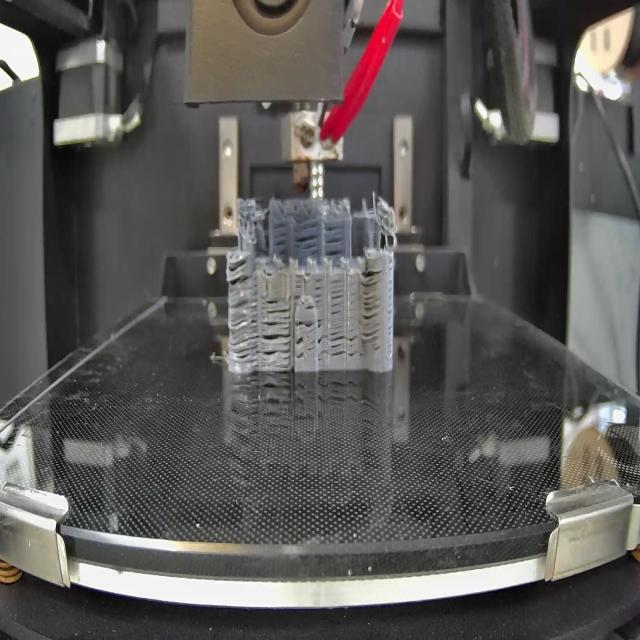cracks: (227, 294, 260, 362), (361, 266, 383, 344), (263, 322, 290, 367), (329, 326, 360, 359), (225, 253, 254, 285), (296, 223, 321, 257), (324, 223, 346, 258), (272, 223, 290, 258), (329, 276, 344, 316), (266, 298, 290, 318), (318, 316, 325, 362), (294, 274, 304, 301), (295, 317, 313, 330), (315, 277, 323, 302), (296, 338, 305, 359), (304, 303, 317, 311)
